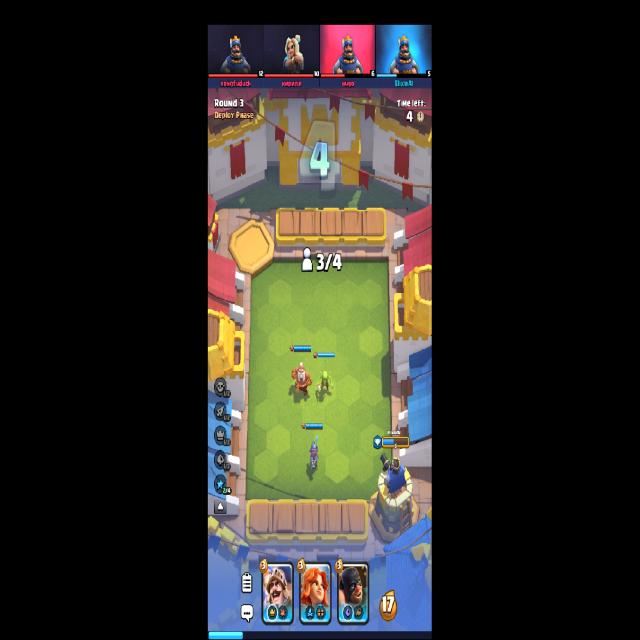card_prince: (262, 563, 294, 624)
card_valkyrie: (298, 561, 332, 625), (337, 560, 369, 625)
goblin: (317, 370, 333, 395)
monk: (292, 363, 312, 398)
musketeer: (309, 436, 320, 470)
